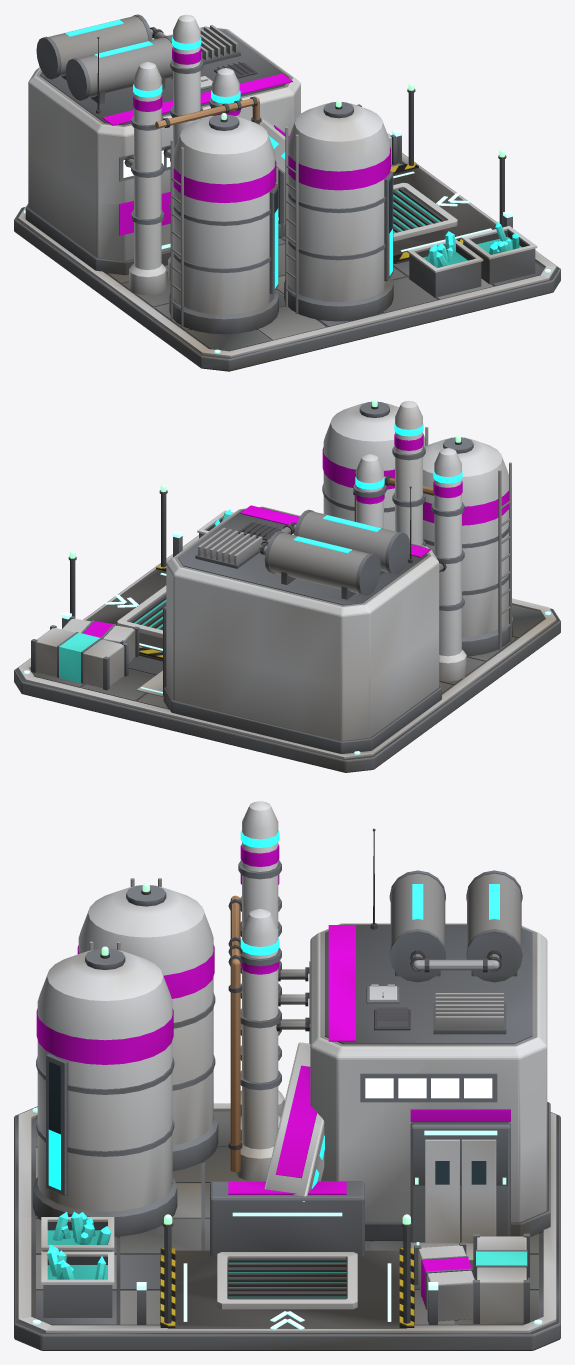
File: refinery_future.glb
3 views of the same model, one above another, from view 1: azimuth 30°, elevation 25°; view 2: azimuth 150°, elevation 25°; view 3: azimuth 270°, elevation 25° (orthographic). The views are drawn at different scales.
Visible parts, largest first — view 1: Body; view 2: Body; view 3: Body.
Part boxes in pixels (box(x1,y1,x2,y2)): Body: box(14, 14, 560, 371); Body: box(14, 400, 560, 772); Body: box(14, 801, 560, 1350).
Size of the model in its own units: 6 by 4.4 by 6.
1 material, 1 textured.
